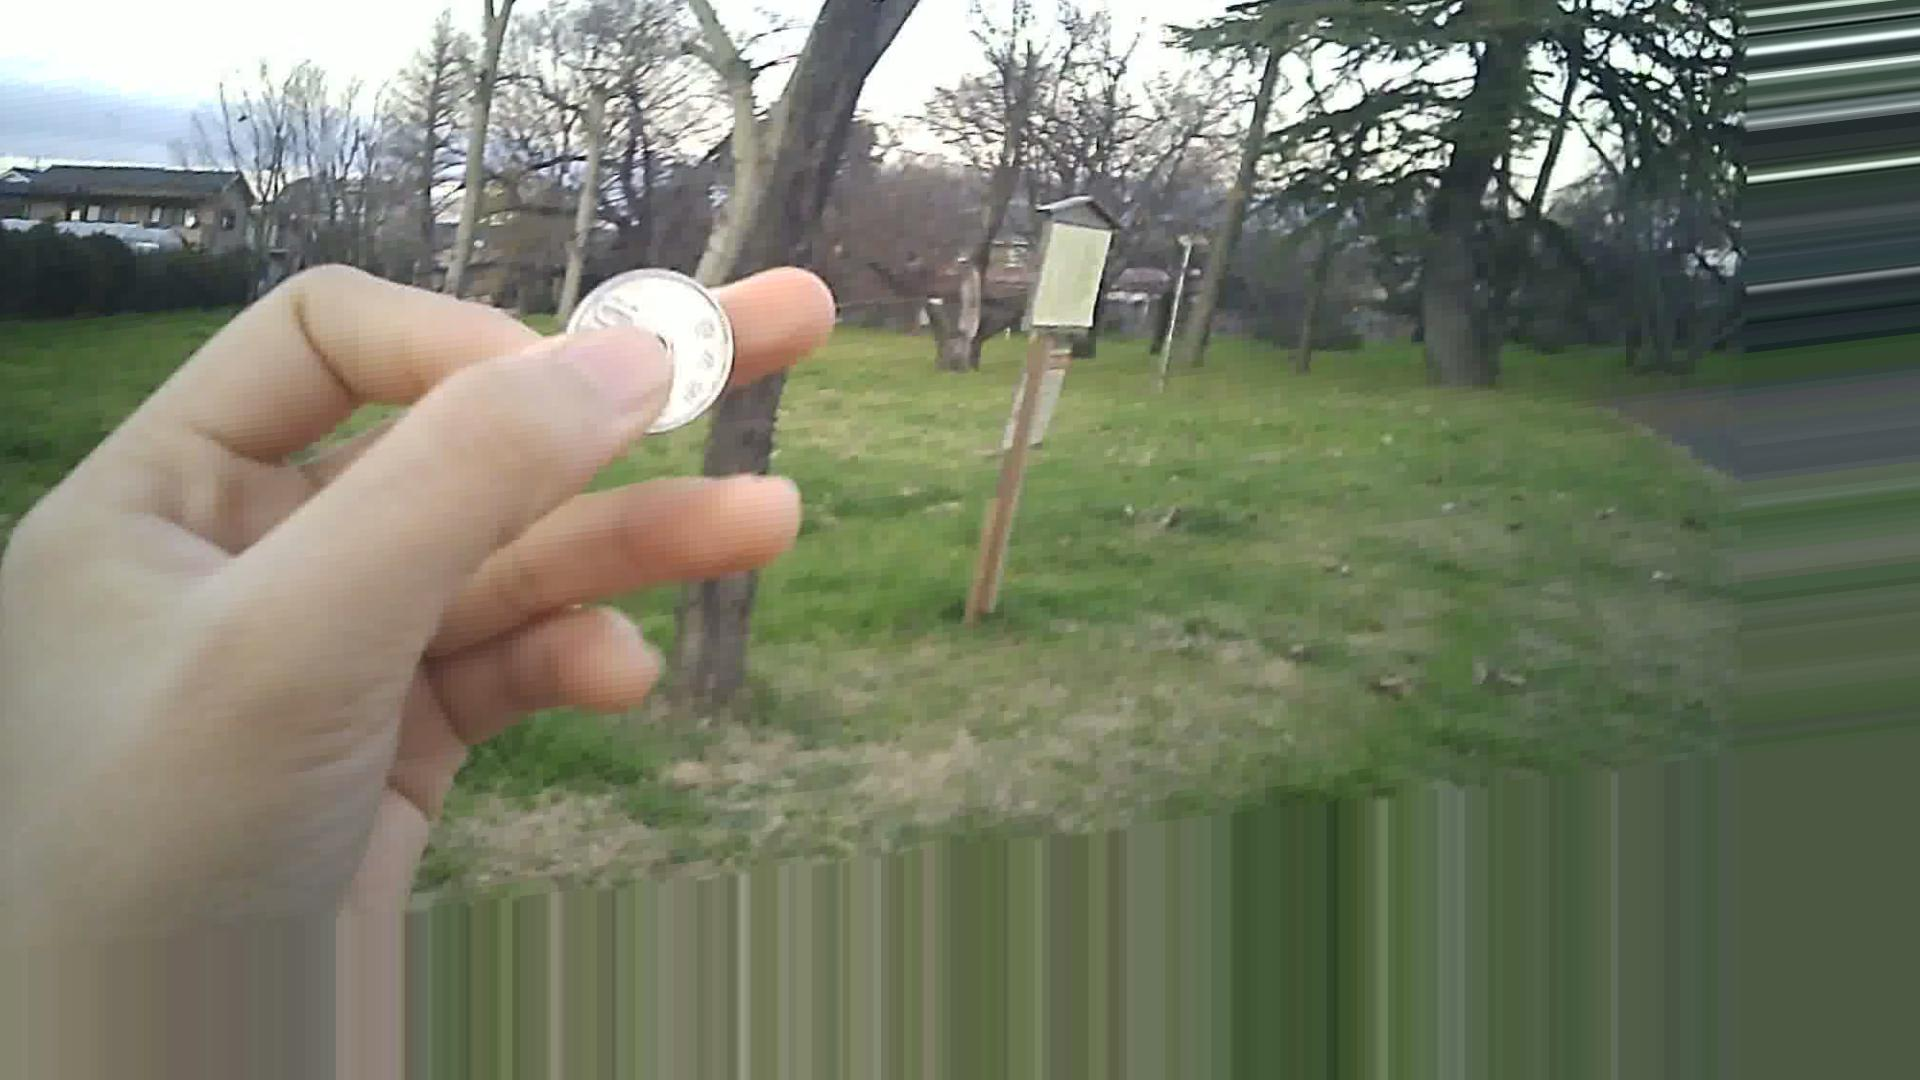50 Yen: (553, 266, 745, 414)
